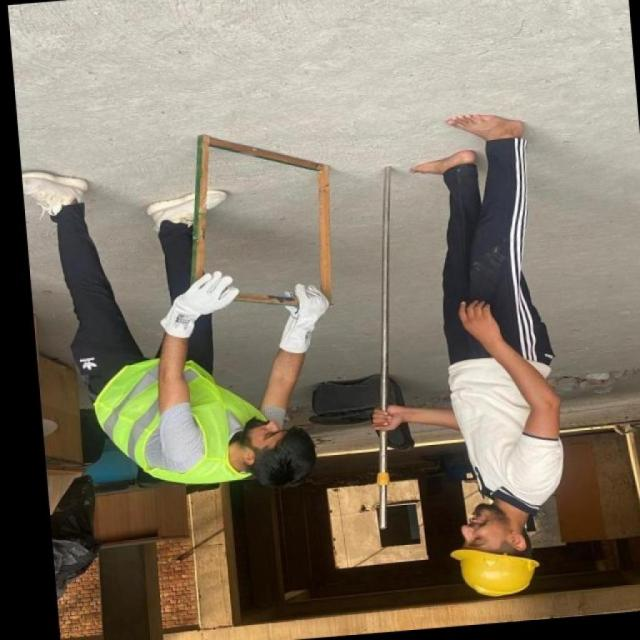Gloves-Detection: (158, 269, 227, 340), (279, 286, 323, 352)
